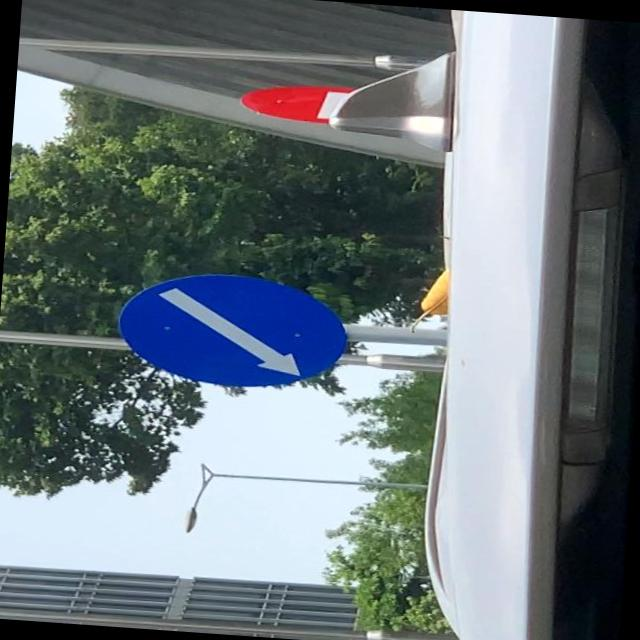R-302b: (115, 267, 352, 393)
